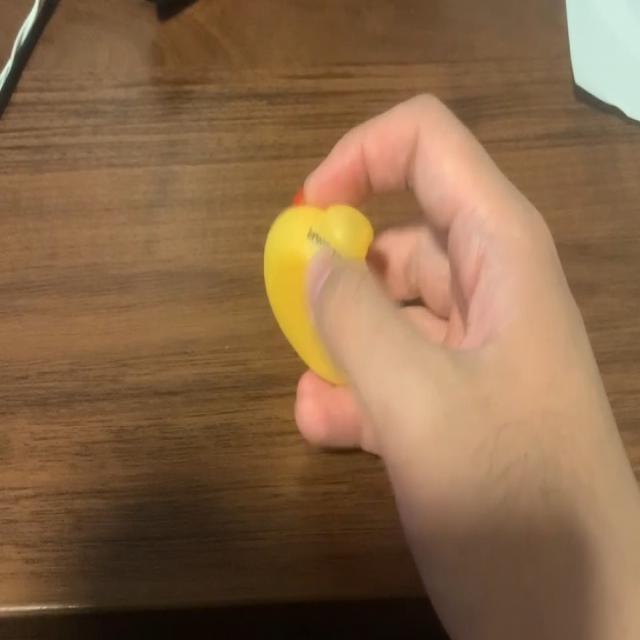rubber-duck: (263, 204, 371, 382)
